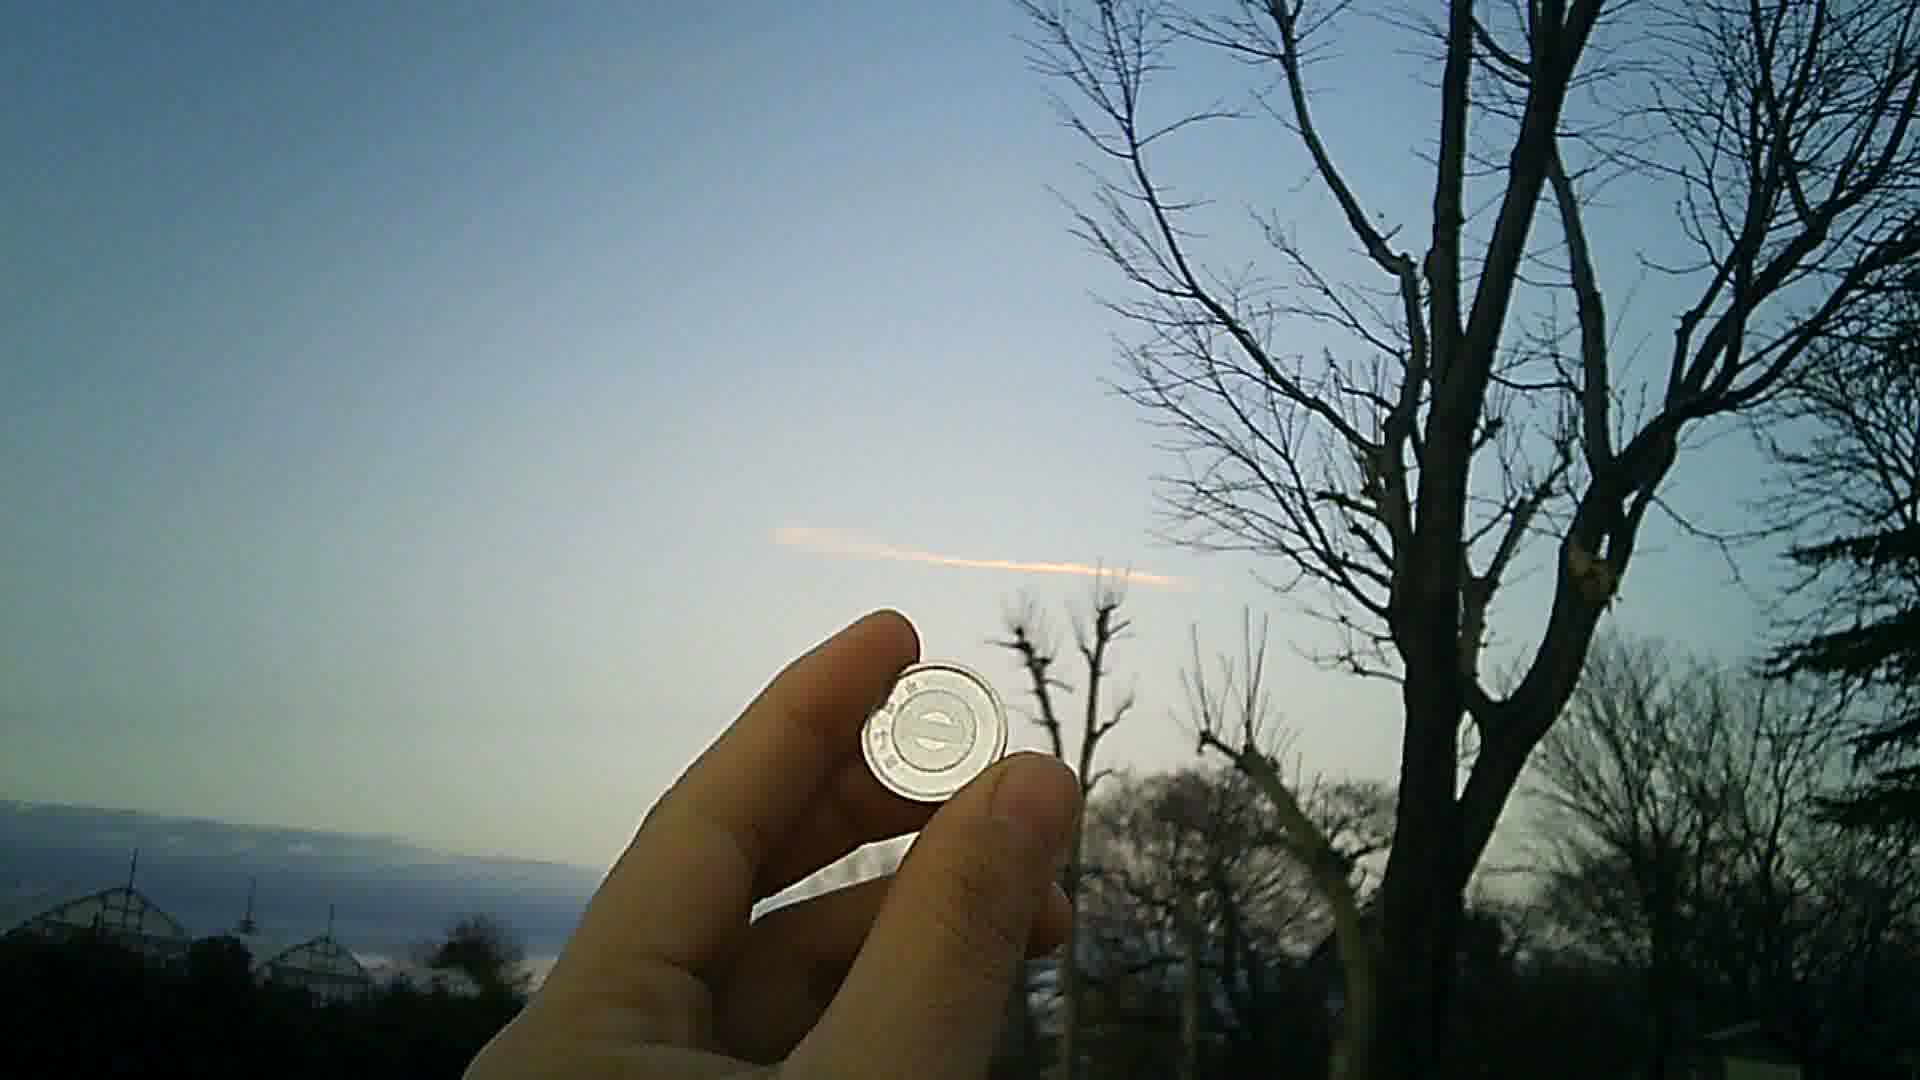1 Yen: (856, 659, 1015, 806)
